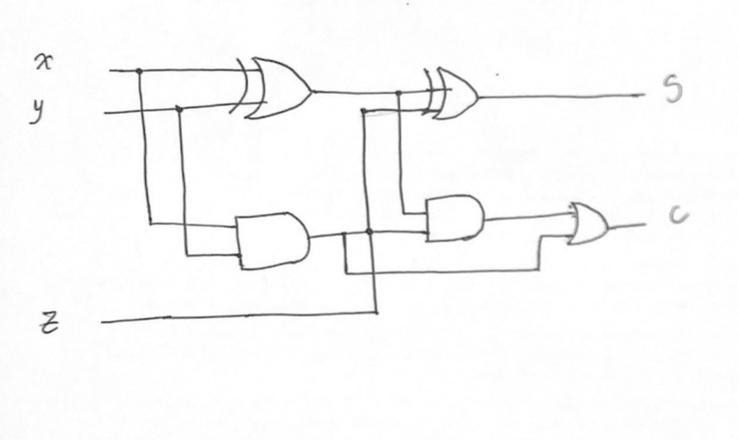AND: (222, 208, 323, 276), (412, 189, 497, 248)
OR: (553, 192, 617, 250)
XOR: (224, 47, 326, 130), (412, 62, 496, 130)
